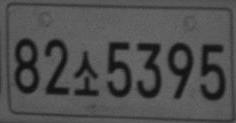2: (44, 37, 70, 95)
3: (136, 42, 162, 98)
5: (199, 43, 227, 101), (106, 41, 132, 98)
8: (12, 37, 40, 93)
9: (167, 41, 193, 99)
소: (73, 50, 100, 96)
